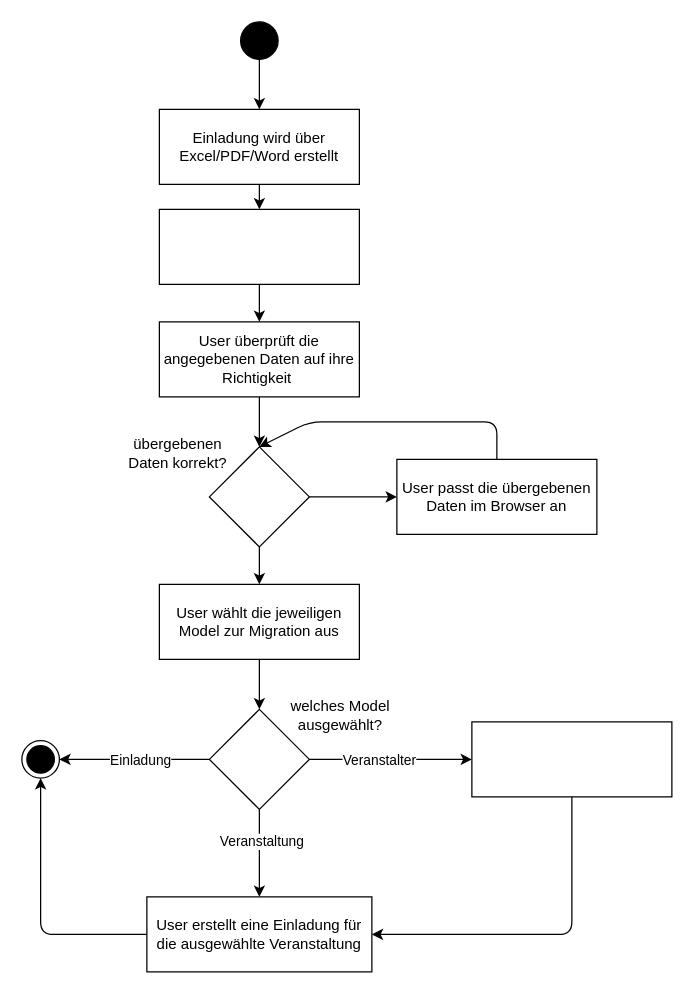
Some shapes in this 694 by 994 pixel diagram are drawn without their labels. Each missing label, with the box of its shape:
User erstellt eine Veranstaltung für den ausgewählten Veranstalter: (471, 721, 672, 797)
User uploadet Datei über die API-Schnittstelle: (158, 208, 359, 284)
